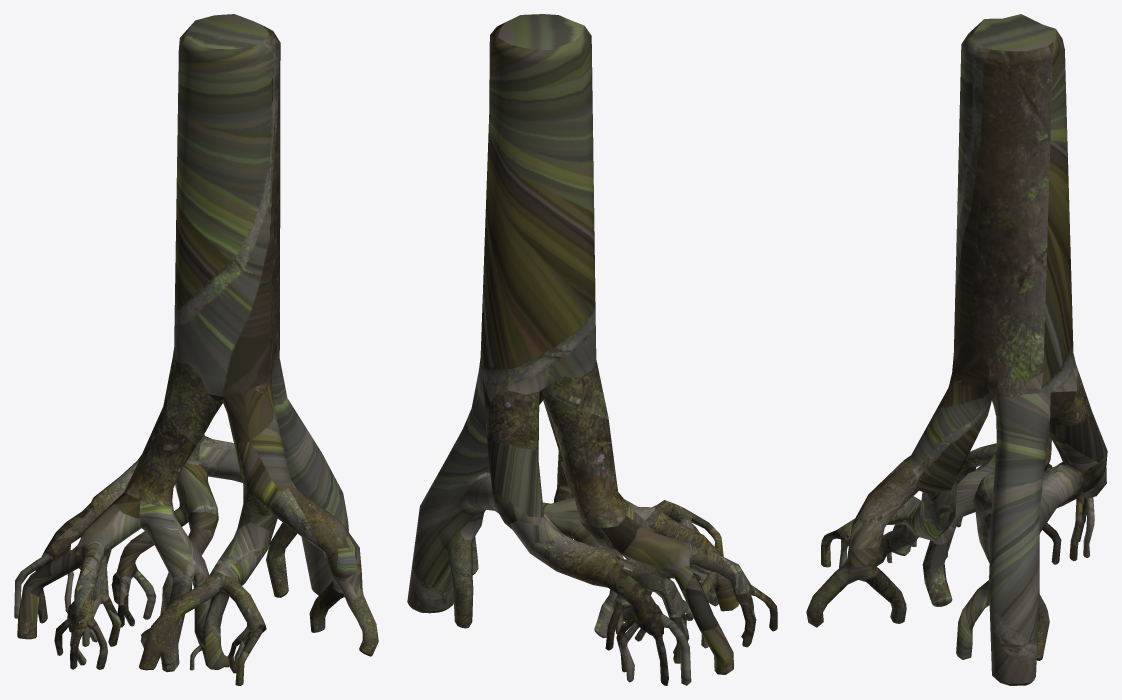
3 views of the same model, side by side, from view 1: azimuth 30°, elevation 25°; view 2: azimuth 150°, elevation 25°; view 3: azimuth 270°, elevation 25° (orthographic). The views are drawn at different scales.
Visible parts, largest first — view 1: tree:polySurface1; view 2: tree:polySurface1; view 3: tree:polySurface1.
Boxes of the visible parts, x1,y1,x2,y2 form: tree:polySurface1: (14, 14, 378, 685); tree:polySurface1: (407, 14, 777, 685); tree:polySurface1: (806, 14, 1107, 685).
Bounding box in the file's own units: 0.1547 × 0.2705 × 0.1233.
